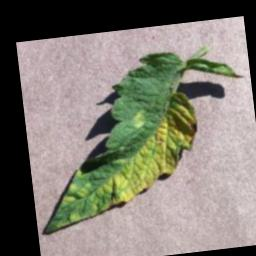Leaf_Mold: (79, 90, 206, 212), (57, 166, 90, 206)
